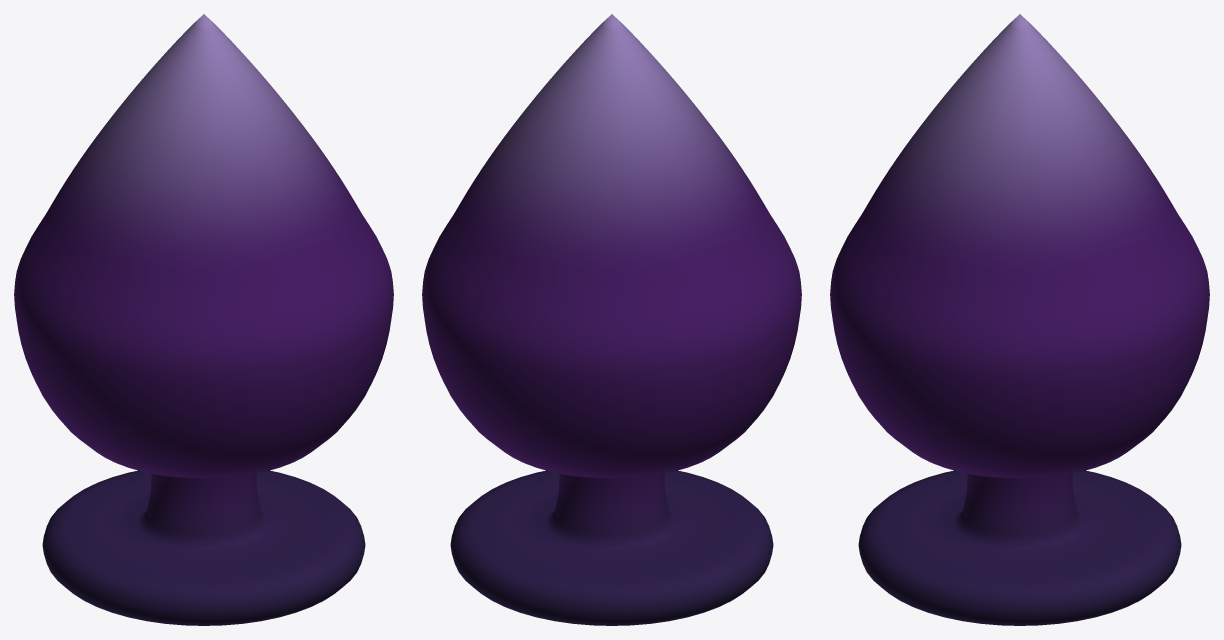
File: pawn_purple.glb
3 views of the same model, side by side, from view 1: azimuth 30°, elevation 25°; view 2: azimuth 150°, elevation 25°; view 3: azimuth 270°, elevation 25° (orthographic).
Visible parts, largest first — view 1: pawn; view 2: pawn; view 3: pawn.
Part boxes in pixels (x1,y1,x2,y2): pawn: (14, 14, 393, 625); pawn: (422, 14, 801, 625); pawn: (830, 14, 1209, 625).
Size of the model in its own units: 0.3436 by 0.55 by 0.3436.
